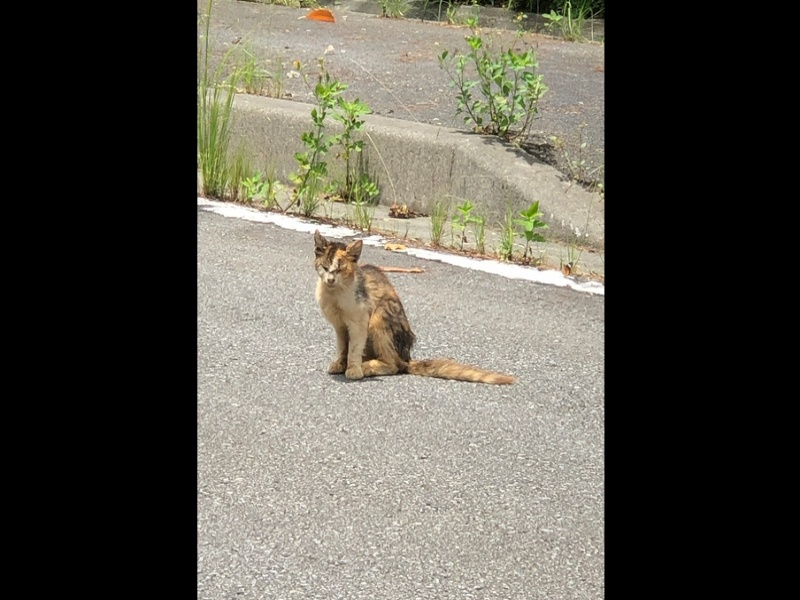cat: (314, 230, 518, 386)
